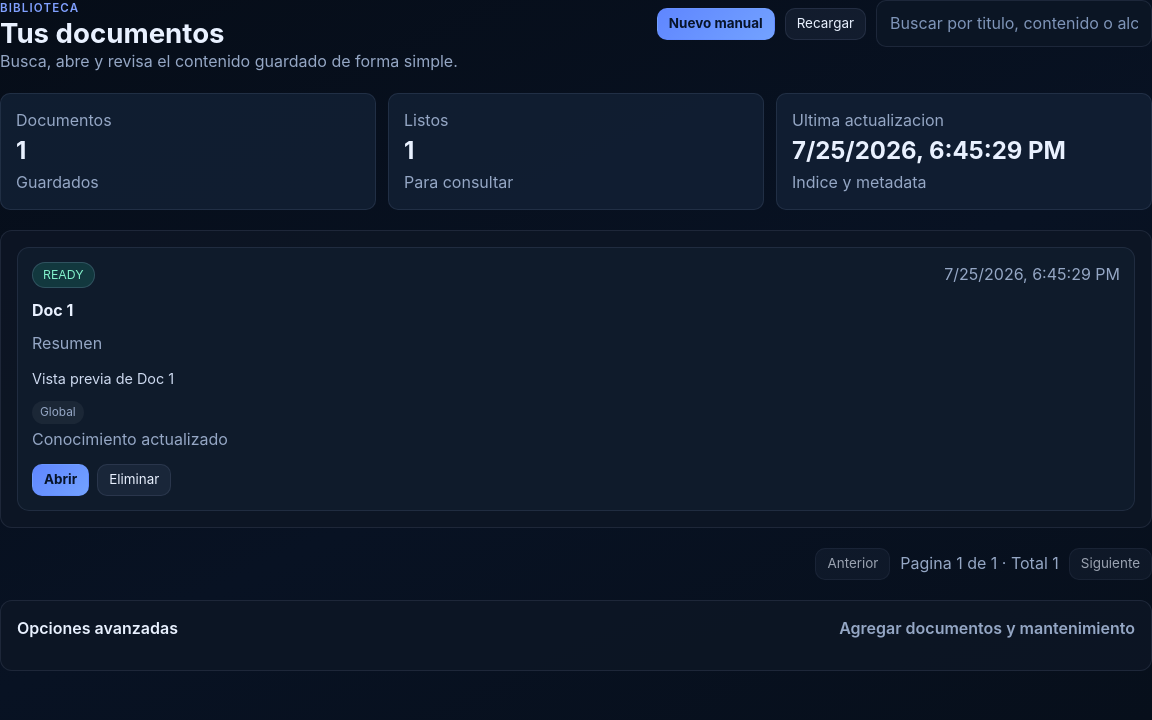
it: DocumentsPage › deletes a document after confirmation
The image size is (1152, 720).
Expected: the heading "Doc 1" is shown, [32,300,74,320]
Click the button "Eliminar": {"x": 134, "y": 480} [97,464,171,496]
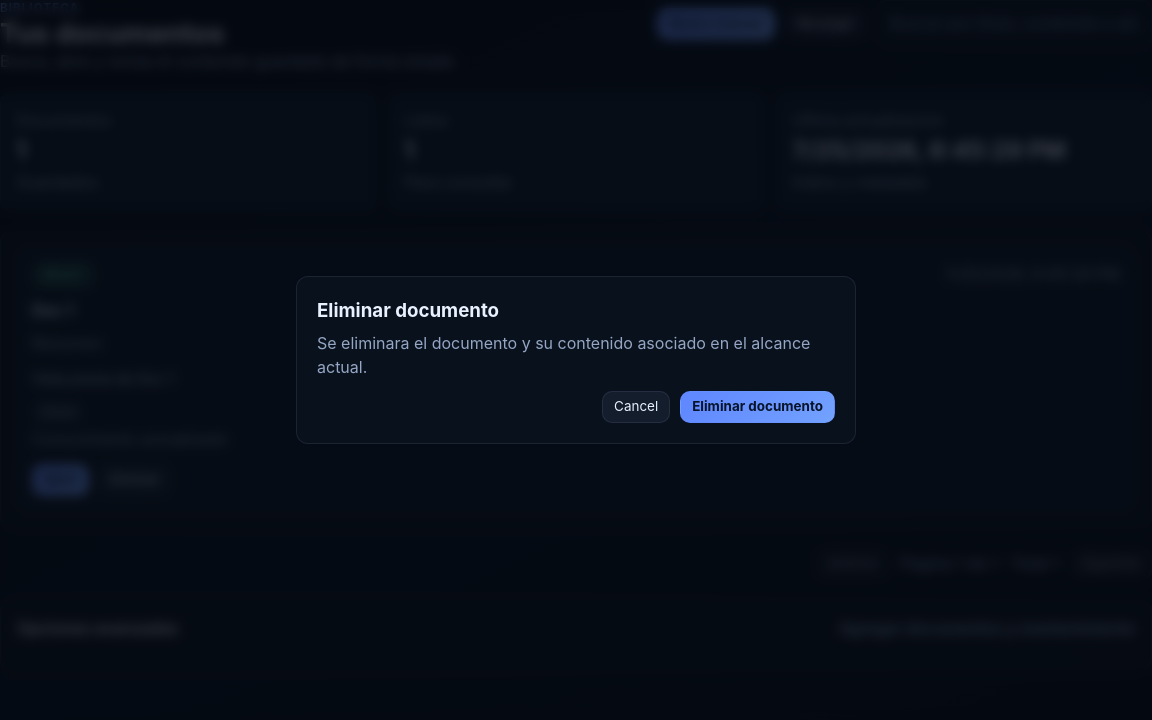
Click the button "Eliminar documento": {"x": 758, "y": 407} [680,391,835,423]
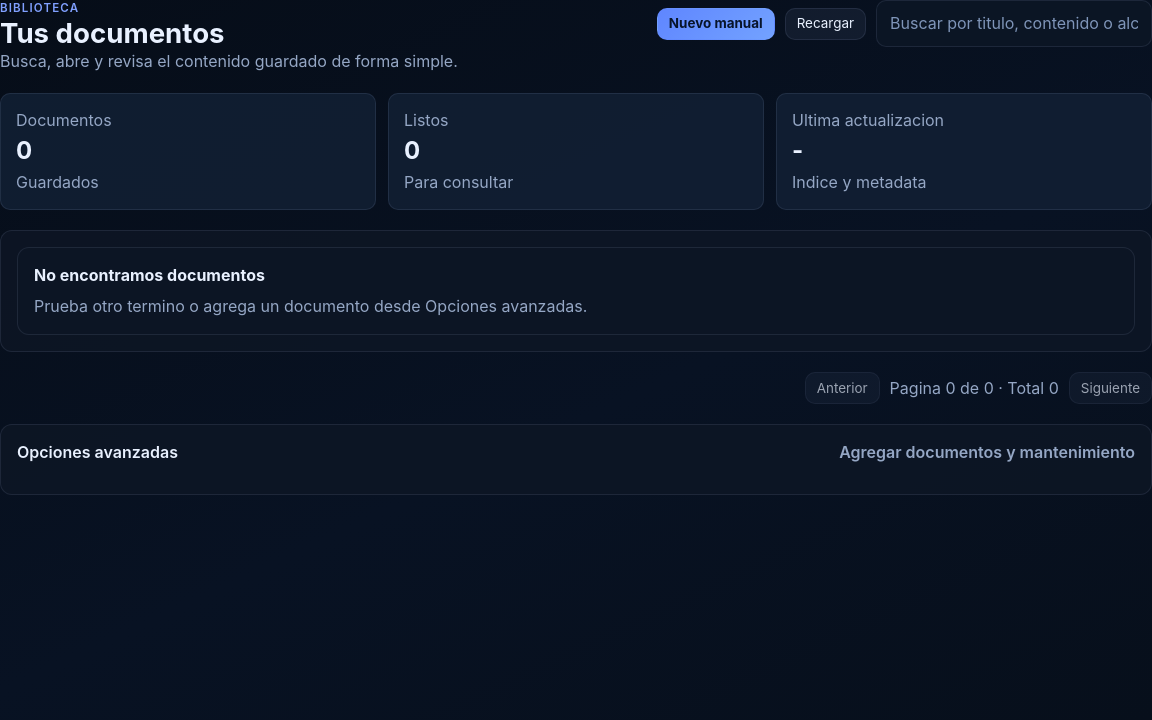
Now the text "No encontramos documentos" is shown, box [34,265,265,285]
